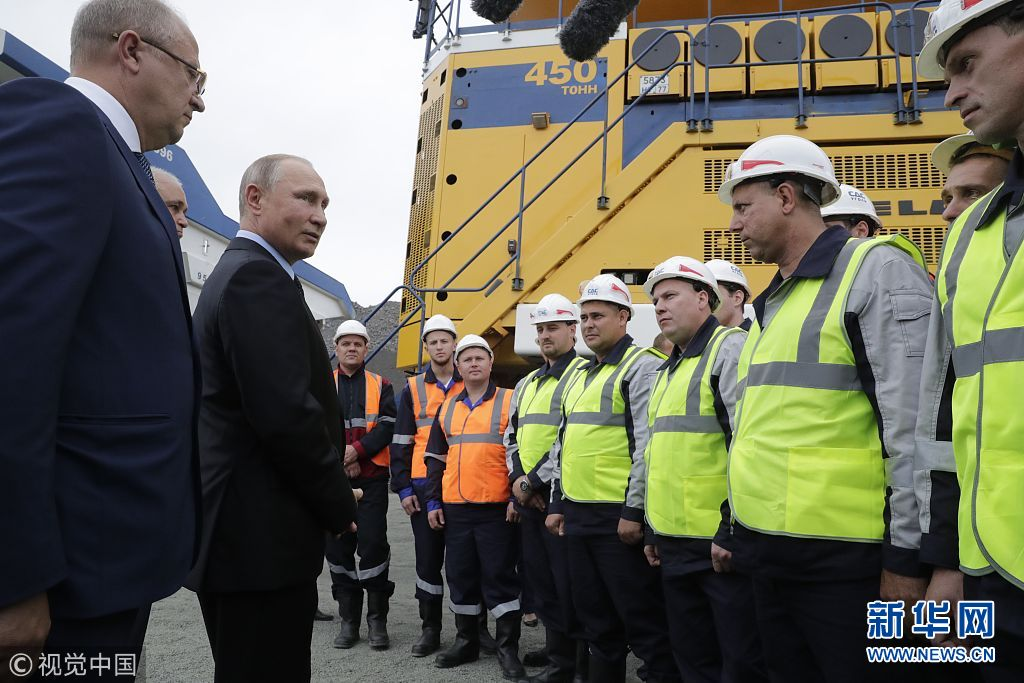helmet: (729, 138, 849, 270), (644, 257, 723, 343), (582, 270, 640, 355), (521, 287, 580, 360)
